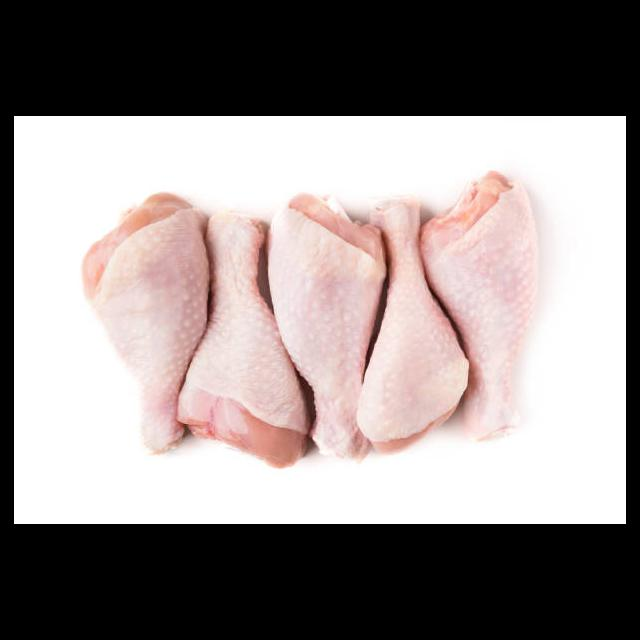chicken: (419, 168, 541, 446), (177, 206, 312, 456), (81, 192, 210, 453), (269, 192, 386, 460), (356, 195, 468, 457)
